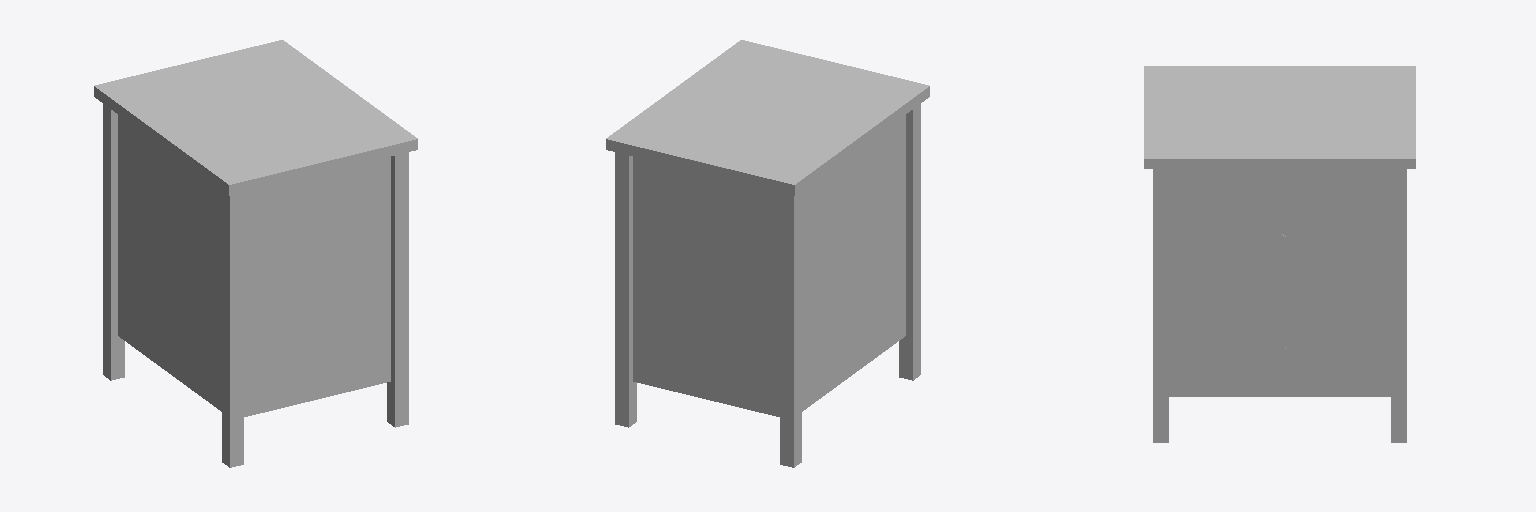
The model's file is Nightstand_closed.obj.
3 views of the same model, side by side, from view 1: azimuth 30°, elevation 25°; view 2: azimuth 150°, elevation 25°; view 3: azimuth 270°, elevation 25° (orthographic).
Visible parts, largest first — view 1: Nightstand_Closed_LOD0_Cube.018; view 2: Nightstand_Closed_LOD0_Cube.018; view 3: Nightstand_Closed_LOD0_Cube.018.
Boxes of the visible parts, box(x1,y1,x2,y2) form: Nightstand_Closed_LOD0_Cube.018: box(94, 40, 417, 467); Nightstand_Closed_LOD0_Cube.018: box(606, 40, 929, 467); Nightstand_Closed_LOD0_Cube.018: box(1144, 66, 1415, 442).
Bounding box in the file's own units: 0.5727 × 0.8313 × 0.7122.